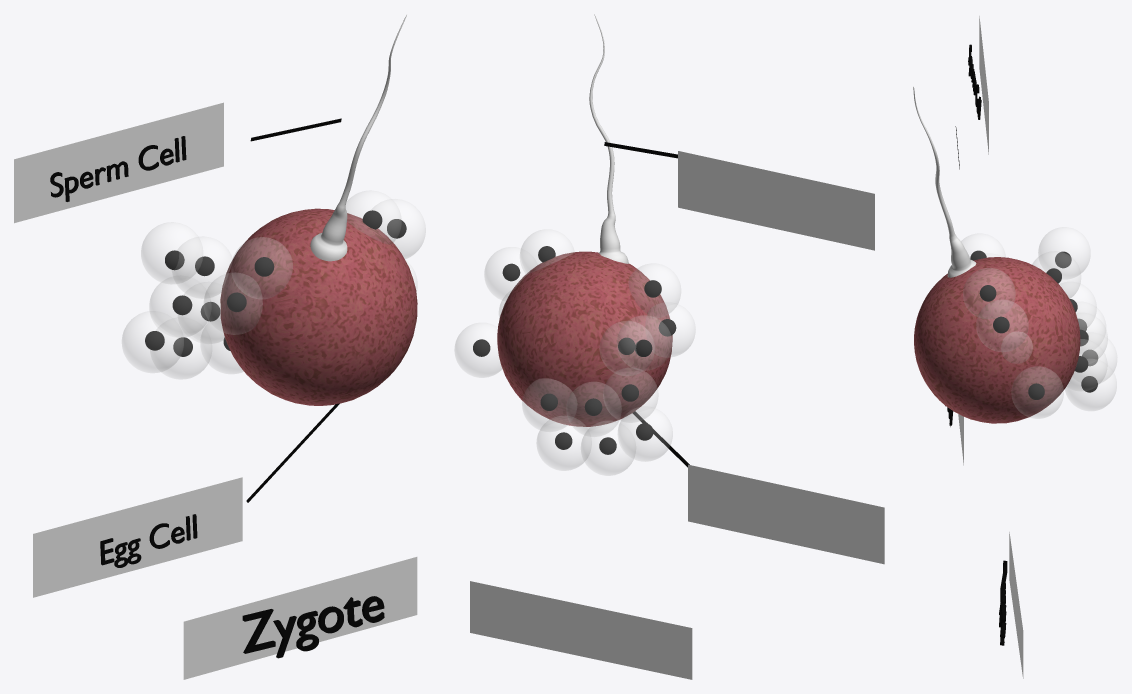
The model's file is zygote.gltf.
3 views of the same model, side by side, from view 1: azimuth 30°, elevation 25°; view 2: azimuth 150°, elevation 25°; view 3: azimuth 270°, elevation 25° (orthographic). The views are drawn at different scales.
Parts seen in each view (by area): view 1: Object_2.502, Plane.153, Plane.151, Plane.002, Object_2.513, Object_2.509, Object_2.505, Text.001, Object_2.503, Object_2.515, Object_2.511, Sperm_Sperm_0.047 (+7 smaller); view 2: Object_2.502, Plane.002, Plane.151, Plane.153, Object_2.509, Object_2.513, Object_2.517, Object_2.519, Object_2.515, Object_2.521, Object_2.523, Object_2.505 (+6 smaller); view 3: Object_2.502, Object_2.507, Object_2.527, Object_2.531, Object_2.509, Object_2.521, Object_2.523, Sperm_Sperm_0.047, Object_2.511, Object_2.519, Object_2.515, Object_2.505 (+7 smaller).
Part boxes in pixels (x1,y1,x2,y2): Object_2.502: (220,208,417,405); Plane.153: (33,477,242,597); Plane.151: (14,102,223,223); Plane.002: (183,557,417,679); Object_2.513: (122,311,183,372); Object_2.509: (141,222,202,284); Object_2.505: (231,237,292,298); Text.001: (242,596,384,658); Object_2.503: (204,273,262,334); Object_2.515: (149,277,210,337); Object_2.511: (172,236,232,298); Sperm_Sperm_0.047: (310,14,407,261); Object_2.502: (497,251,672,426); Plane.002: (470,581,692,679); Plane.151: (678,151,874,250); Plane.153: (688,464,884,564); Object_2.509: (617,315,671,370); Object_2.513: (618,407,672,461); Object_2.517: (581,421,635,475); Object_2.519: (566,382,621,436); Object_2.515: (603,368,658,422); Object_2.521: (536,416,591,470); Object_2.523: (522,378,576,431); Object_2.505: (628,263,680,317); Object_2.502: (914,257,1080,423); Object_2.507: (1011,366,1063,418); Object_2.527: (976,300,1028,351); Object_2.531: (963,268,1015,318); Object_2.509: (1038,227,1090,278); Object_2.521: (1065,359,1116,410); Object_2.523: (1067,339,1107,391); Sperm_Sperm_0.047: (913,86,976,277); Object_2.511: (1032,251,1080,298); Object_2.519: (1076,313,1107,359); Object_2.515: (1060,282,1096,329); Object_2.505: (961,233,1005,260).
Bounding box in the file's own units: 11.8 × 17.31 × 5.69.
10 materials, 2 textured.
